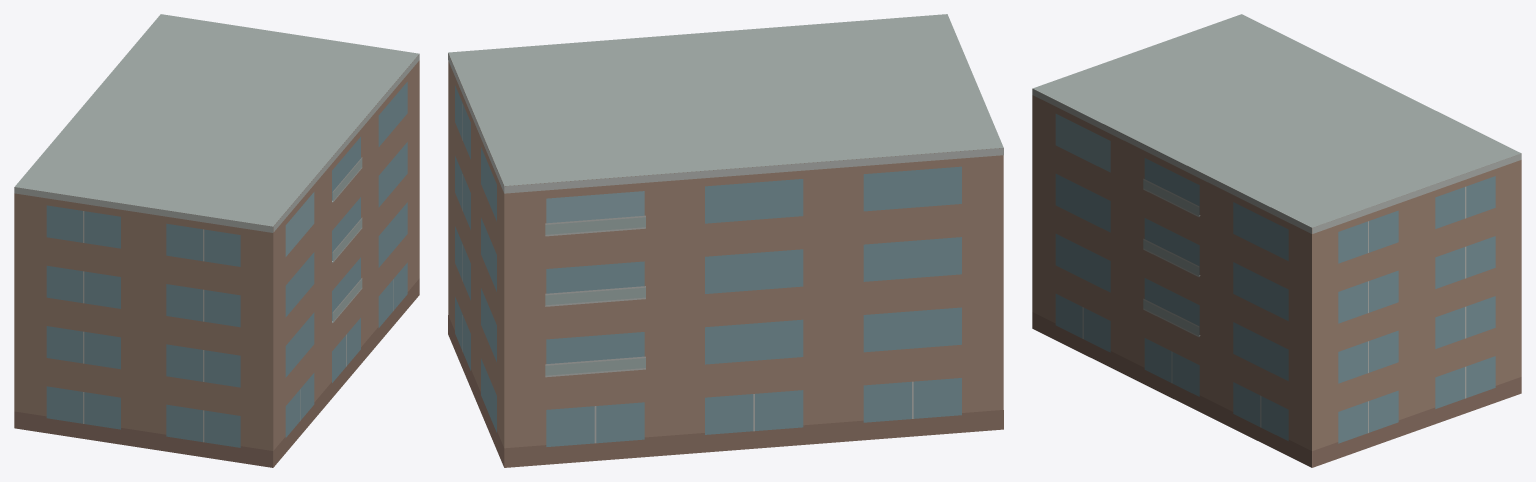
The model's file is survey-upis-32714111.glb.
The picture shows the model from 3 angles, left to right: view 1: azimuth 30°, elevation 25°; view 2: azimuth 150°, elevation 25°; view 3: azimuth 270°, elevation 25°; orthographic projection. The views are drawn at different scales.
Parts seen in each view (by area): view 1: survey-upis-32714111.tmp; view 2: survey-upis-32714111.tmp; view 3: survey-upis-32714111.tmp.
Part boxes in pixels (<box>): survey-upis-32714111.tmp: <box>14,14,419,467</box>; survey-upis-32714111.tmp: <box>448,14,1003,467</box>; survey-upis-32714111.tmp: <box>1032,14,1521,467</box>.
Size of the model in its own units: 17.59 by 9.2 by 17.01.
